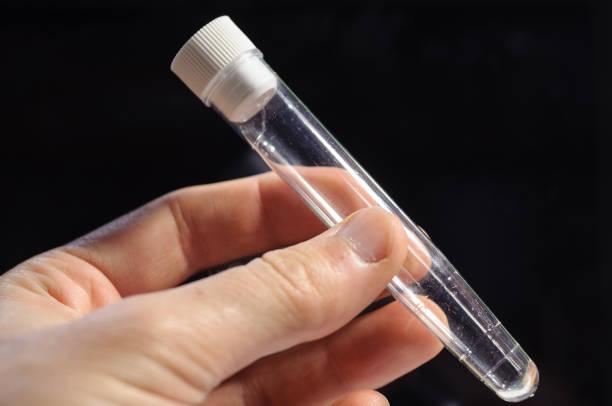Test tube: (146, 16, 556, 394)
